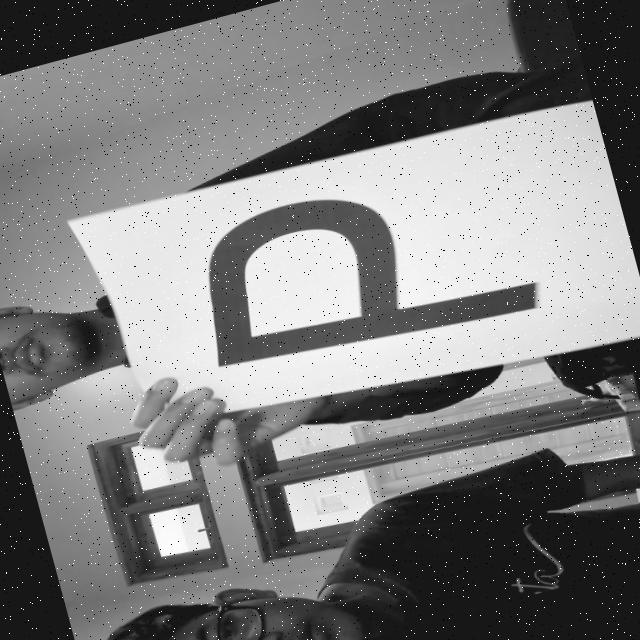p: (147, 119, 591, 408)
